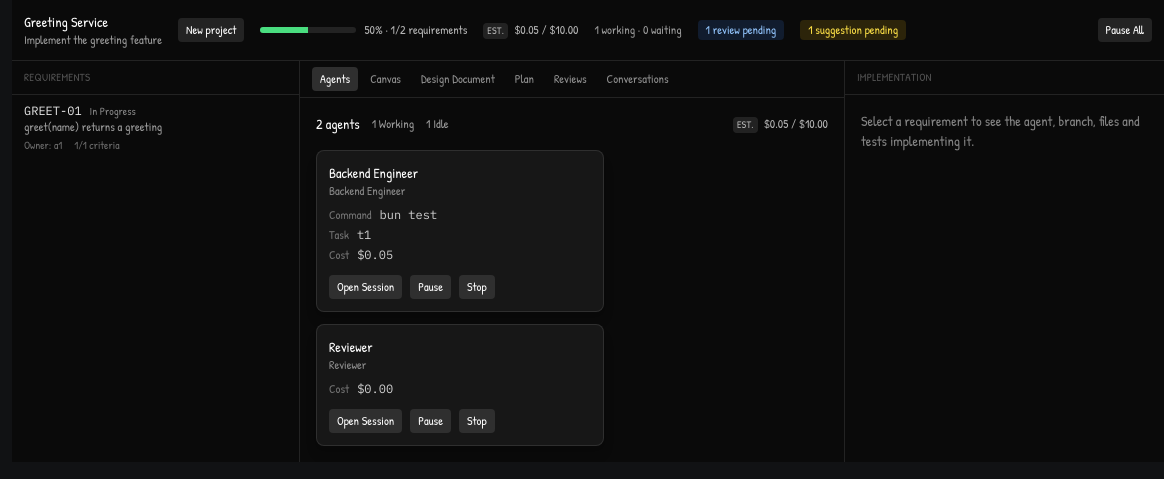
Scenario: the shell can reach archived conversation history › clicking it fetches history and renders the archived thread
This screenshot has width=1164, height=479.
Expected: the text with test id "project-name" reads "Greeting Service", [24, 12, 108, 31]
Click the button with test id "tab-conversations" at (638, 79), box [599, 67, 677, 91]
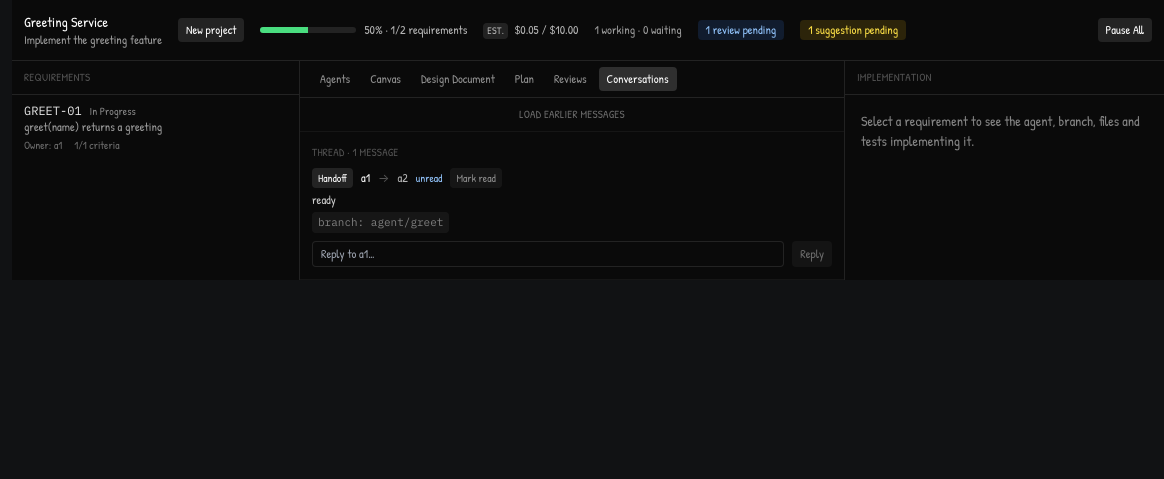
Expected: the text "the archived exchange" is not shown
Expected: the element with test id "conversation-view" is shown, [300, 98, 844, 280]
Click the button with test id "load-message-history" at (572, 115), box [300, 98, 844, 132]
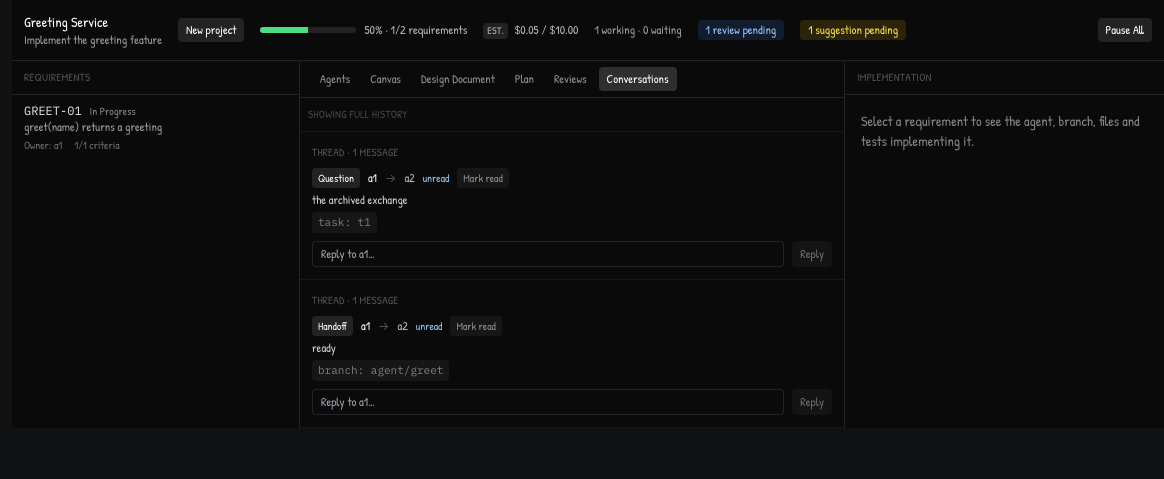
Expected: the text "the archived exchange" is shown, [312, 191, 408, 208]
Expected: the button with test id "load-message-history" is gone
Expected: the text "Showing full history" is shown, [300, 98, 844, 132]
